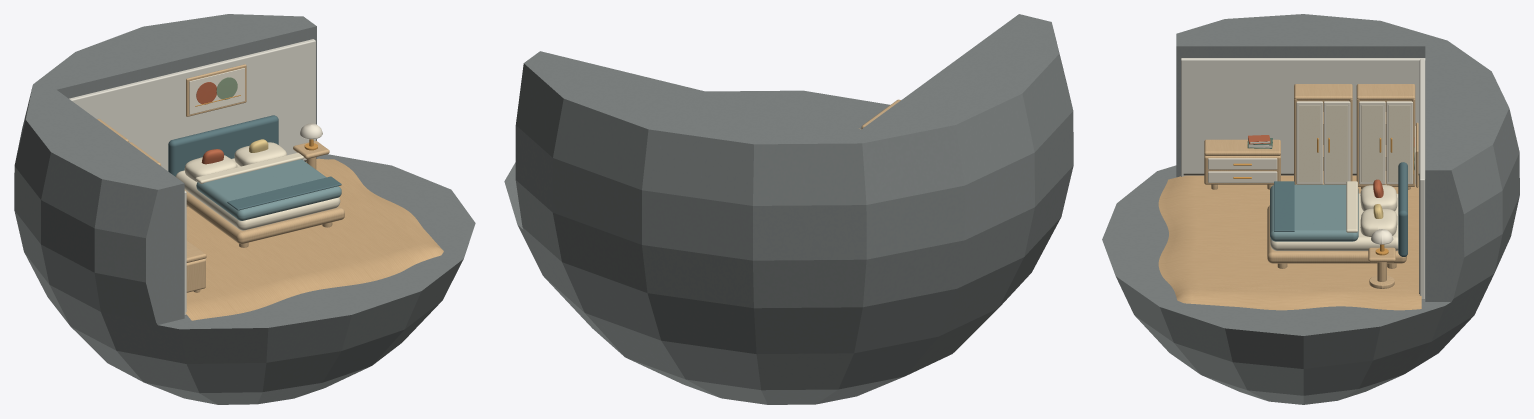
The model's file is roomlet-together-modified.glb.
The picture shows the model from 3 angles, left to right: view 1: azimuth 30°, elevation 25°; view 2: azimuth 150°, elevation 25°; view 3: azimuth 270°, elevation 25°; orthographic projection. The views are drawn at different scales.
Parts seen in each view (by area): view 1: Shell_Stone_LowPoly, Floor_Rectangular_Oak, Wall_Back, Bed_Duvet, Bed_Upholstered_Headboard, Bed_Oak_Platform, Bed_Mattress, Bed_Foot_Throw, Art_Field, Bed_Duvet_Fold, Bed_Pillow_0, Bed_Pillow_1 (+2 smaller); view 2: Shell_Stone_LowPoly; view 3: Shell_Stone_LowPoly, Floor_Rectangular_Oak, Wall_Left, Furniture_Wardrobe_B, Furniture_Wardrobe_A, Bed_Duvet, Bed_Oak_Platform, Bed_Mattress, Wall_Back, Dresser_Top, Bed_Foot_Throw, Furniture_Wardrobe_A_Crown (+8 smaller).
Part boxes in pixels (x1,y1,x2,y2): Shell_Stone_LowPoly: [14, 14, 475, 404]; Floor_Rectangular_Oak: [185, 158, 443, 320]; Wall_Back: [69, 39, 315, 170]; Bed_Duvet: [196, 159, 341, 220]; Bed_Upholstered_Headboard: [168, 115, 278, 176]; Bed_Oak_Platform: [184, 190, 344, 244]; Bed_Mattress: [175, 158, 340, 230]; Bed_Foot_Throw: [227, 176, 341, 210]; Art_Field: [189, 68, 244, 114]; Bed_Duvet_Fold: [195, 152, 303, 183]; Bed_Pillow_0: [184, 155, 237, 181]; Bed_Pillow_1: [234, 142, 286, 166]; Shell_Stone_LowPoly: [504, 14, 1073, 404]; Shell_Stone_LowPoly: [1102, 14, 1519, 404]; Floor_Rectangular_Oak: [1158, 175, 1421, 310]; Wall_Left: [1181, 58, 1425, 179]; Furniture_Wardrobe_B: [1296, 101, 1350, 184]; Furniture_Wardrobe_A: [1359, 101, 1412, 189]; Bed_Duvet: [1270, 184, 1358, 241]; Bed_Oak_Platform: [1267, 205, 1406, 263]; Bed_Mattress: [1270, 193, 1398, 250]; Wall_Back: [1419, 59, 1424, 299]; Dresser_Top: [1204, 139, 1280, 155]; Bed_Foot_Throw: [1274, 181, 1294, 231]; Furniture_Wardrobe_A_Crown: [1356, 84, 1415, 100].
Bounding box in the file's own units: 7.09 × 4.63 × 6.41.
Materials: 15 (8 with a texture image).
